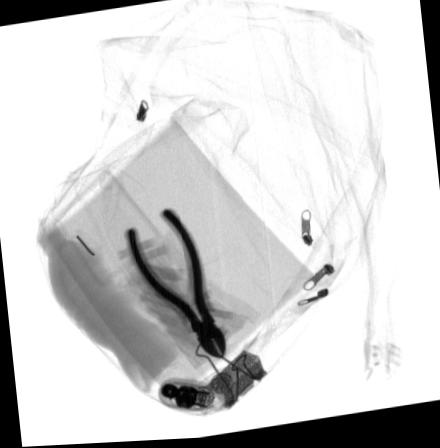Pliers: (123, 209, 227, 360)
